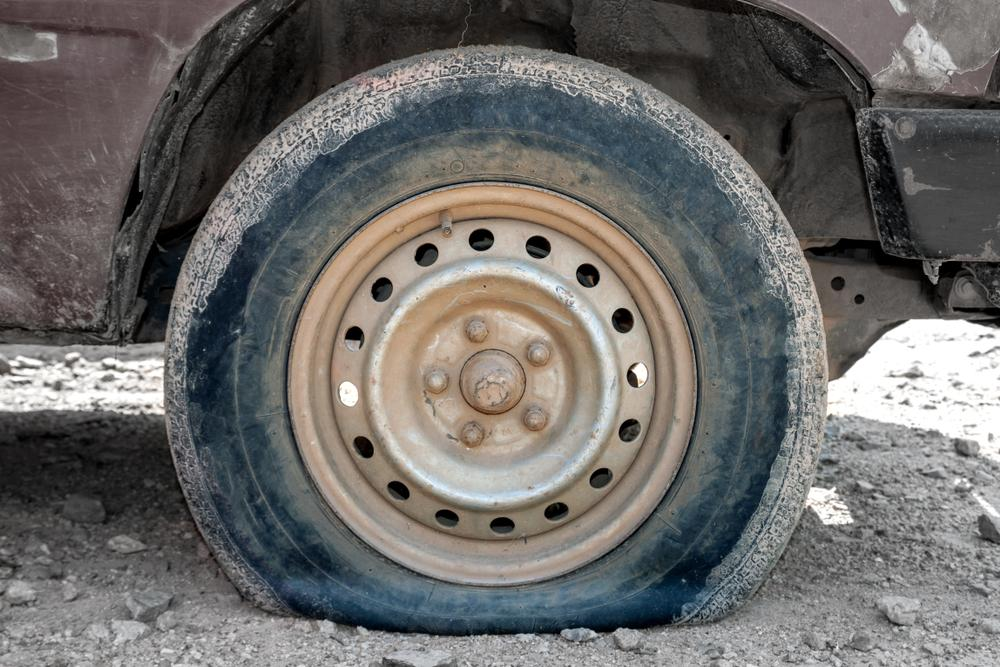tire flat: (165, 43, 828, 637)
